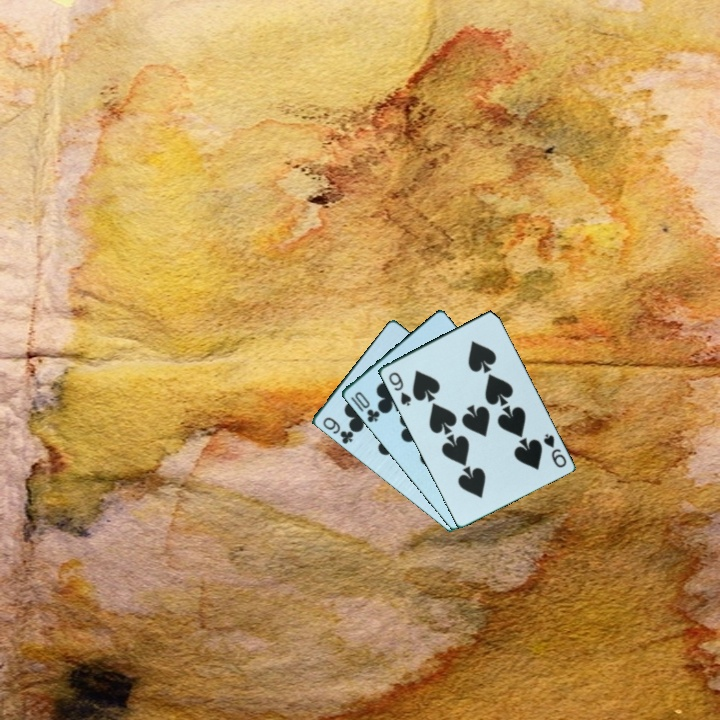10c: (351, 388, 383, 426)
9c: (319, 413, 356, 447)
9s: (539, 430, 569, 471), (385, 368, 414, 409)
